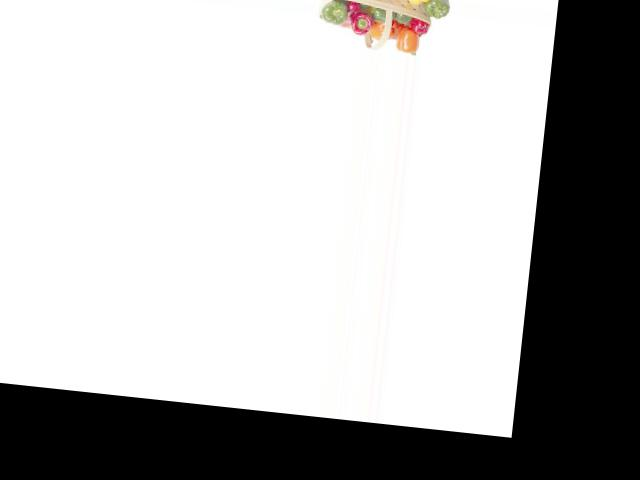bell_pepper: (320, 0, 351, 26)
